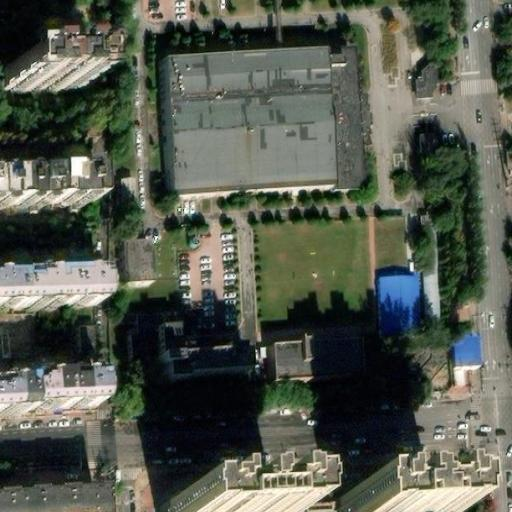building: (161, 56, 359, 205), (265, 345, 358, 386), (0, 270, 94, 308), (372, 275, 425, 338), (156, 355, 244, 389), (0, 168, 88, 199), (0, 60, 78, 93), (122, 236, 157, 283), (447, 330, 483, 369), (414, 62, 440, 97), (155, 334, 176, 371), (374, 502, 432, 512)
